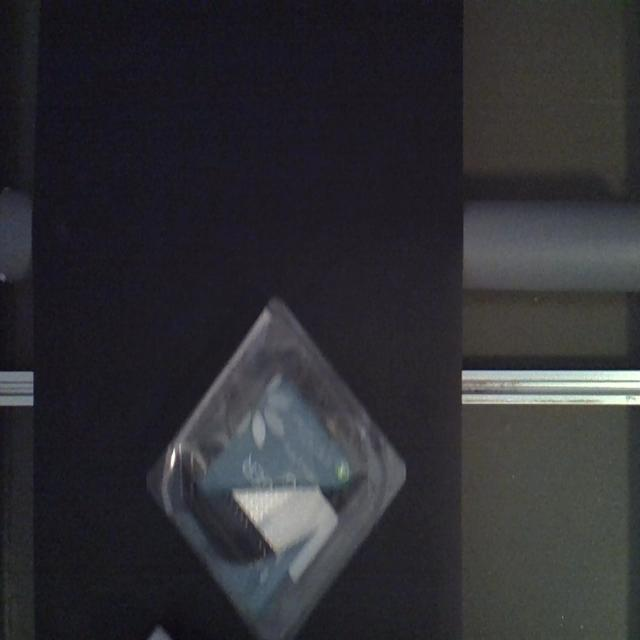mixed-plastics: (144, 291, 408, 637)
